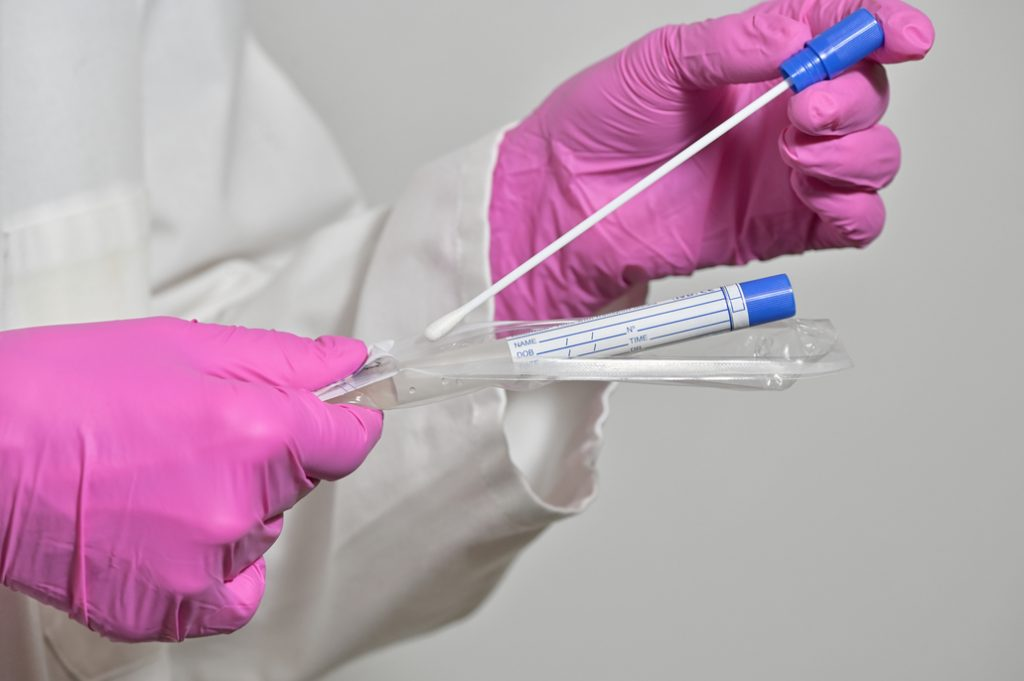Gloves: (475, 1, 946, 355), (1, 310, 384, 637)
